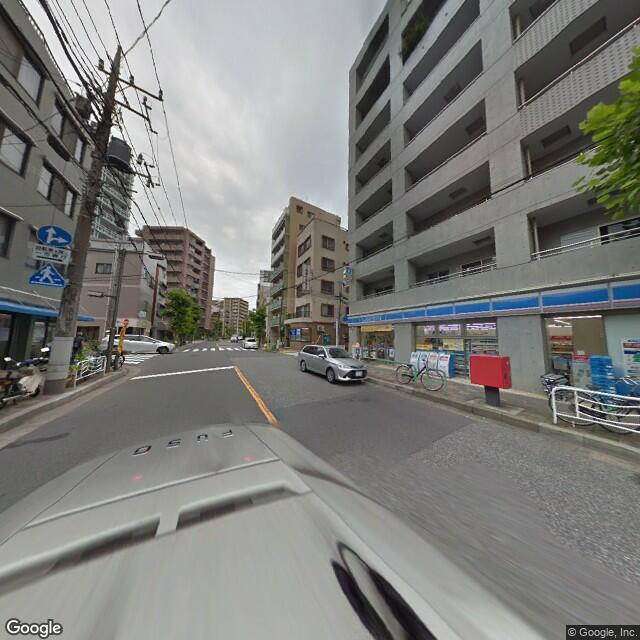lawson: (344, 269, 639, 331)
